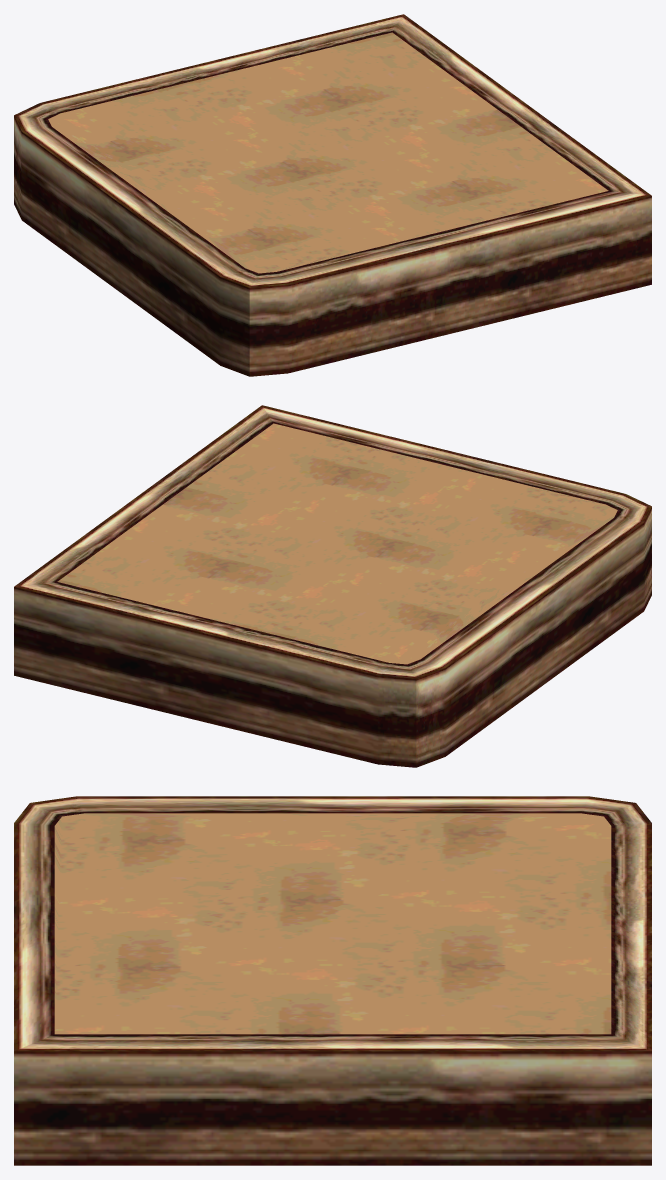
File: JumpingPlatform01.fbx
3 renders of one model, top to bottom at view 1: azimuth 30°, elevation 25°; view 2: azimuth 150°, elevation 25°; view 3: azimuth 270°, elevation 25°, orthographic. The views are drawn at different scales.
Parts seen in each view (by area): view 1: JumpingPlatform; view 2: JumpingPlatform; view 3: JumpingPlatform.
Boxes of the visible parts, x1=… form: JumpingPlatform: x1=14, y1=14, x2=651, y2=376; JumpingPlatform: x1=14, y1=405, x2=651, y2=767; JumpingPlatform: x1=14, y1=796, x2=651, y2=1165.
Size of the model in its own units: 297 by 62.04 by 314.
